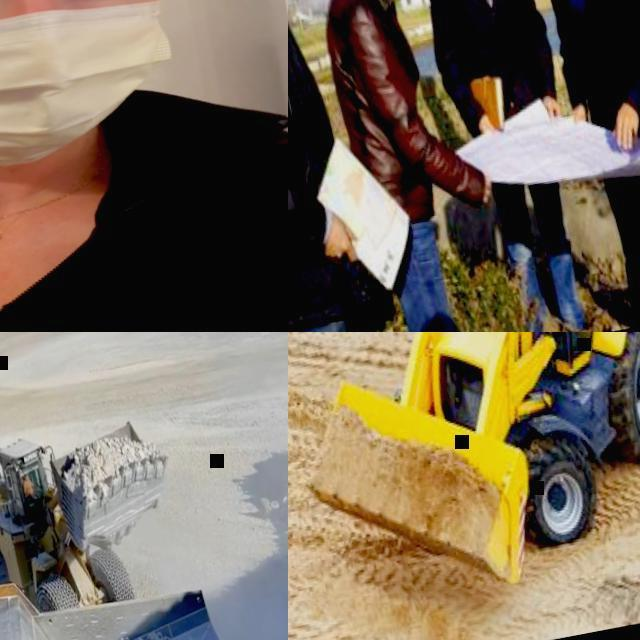machinery: (288, 332, 640, 624), (0, 404, 193, 629), (0, 529, 288, 640)
mask: (0, 0, 207, 178)
no_vest: (0, 102, 288, 332), (319, 0, 436, 219), (288, 0, 351, 298), (433, 0, 545, 124), (550, 0, 640, 130), (23, 482, 34, 498)
person: (0, 0, 288, 332), (299, 0, 523, 332), (393, 0, 610, 332), (521, 0, 640, 331), (288, 0, 388, 332), (21, 474, 37, 498)
